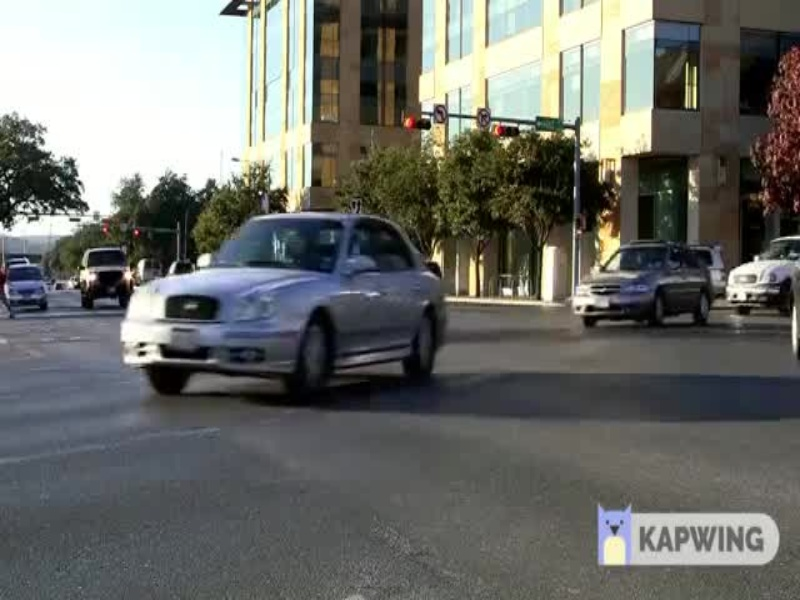car: (119, 180, 457, 401), (564, 239, 711, 347), (1, 265, 54, 316)
suv: (69, 242, 139, 313)
